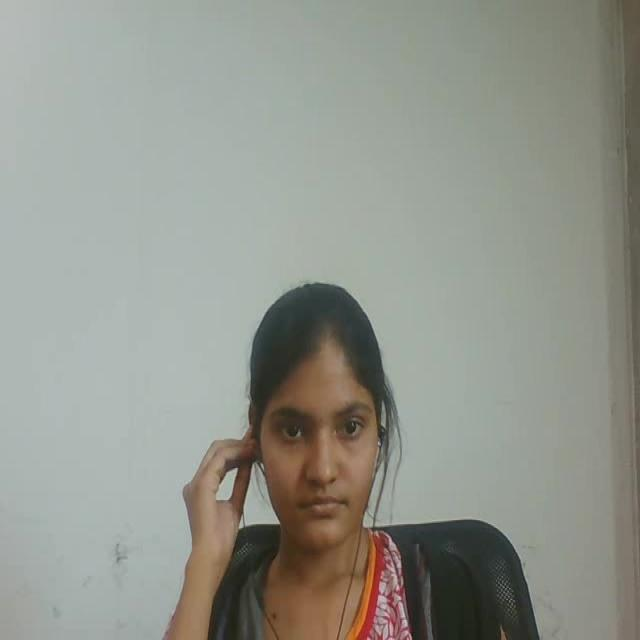Engaged: (211, 267, 427, 581)
